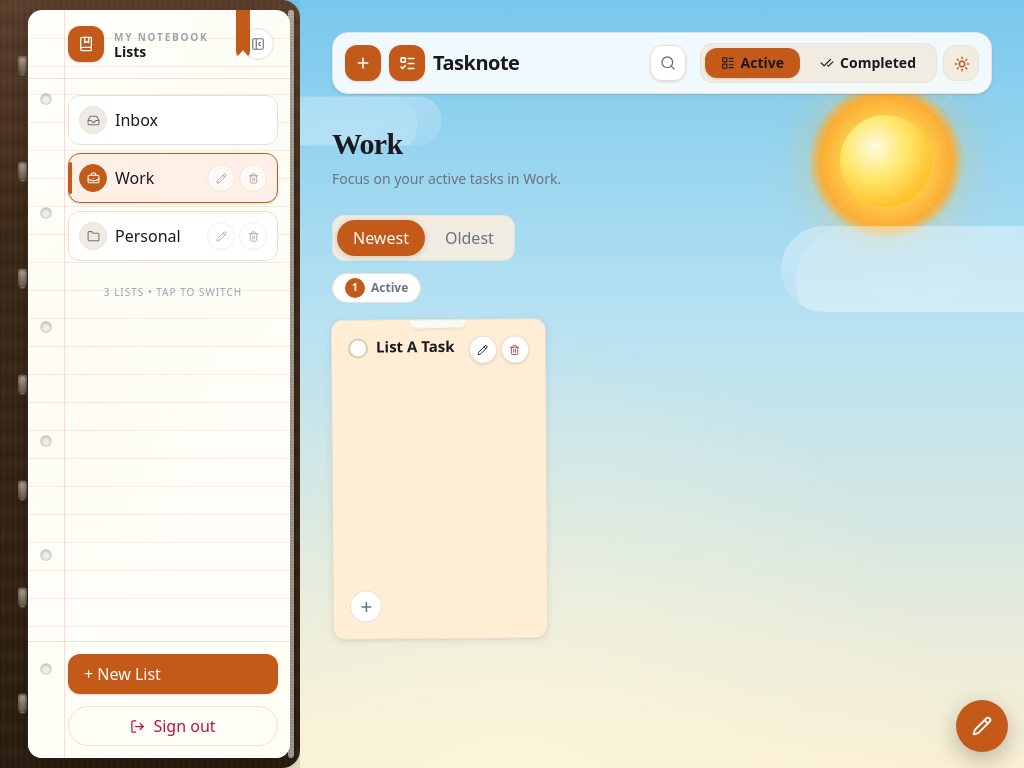
it: Instant navigation and query responsiveness › an older response never overwrites a newer query's results
Expected: the heading "List A Task" is shown, [376,336,461,357]
// Navigate to List B (slow)
Click the button "Personal".
click(157, 236)  # box [115,224,199,248]
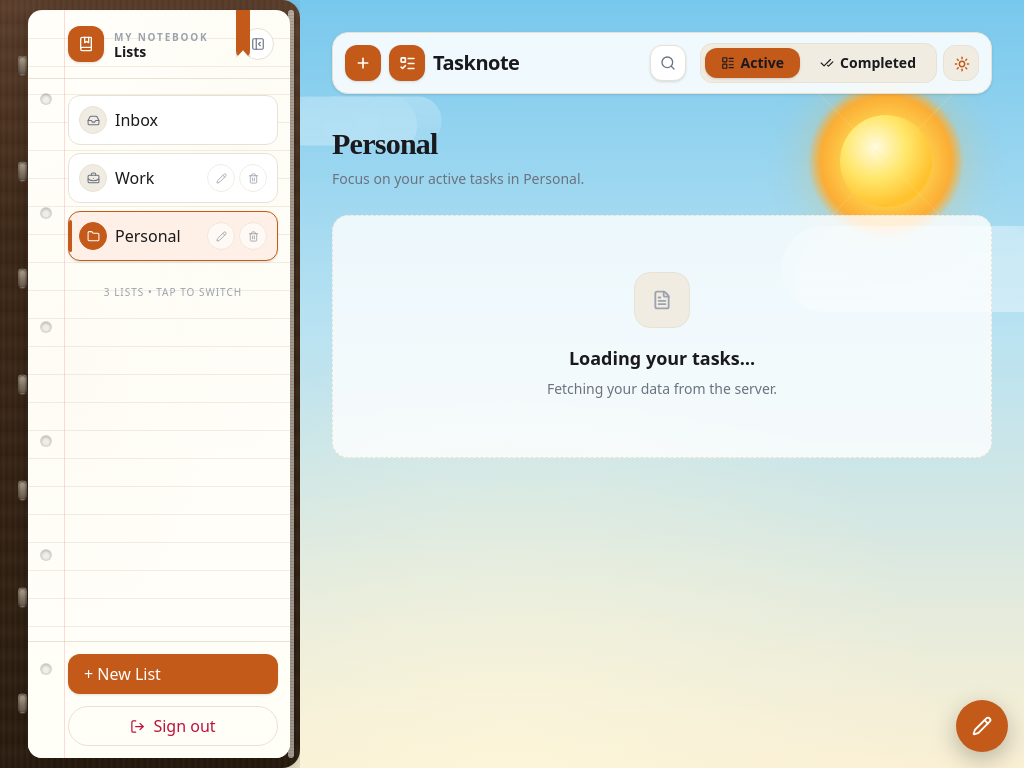
// Quickly navigate back to List A
Click the button "Work".
click(157, 178)  # box [115,166,199,190]
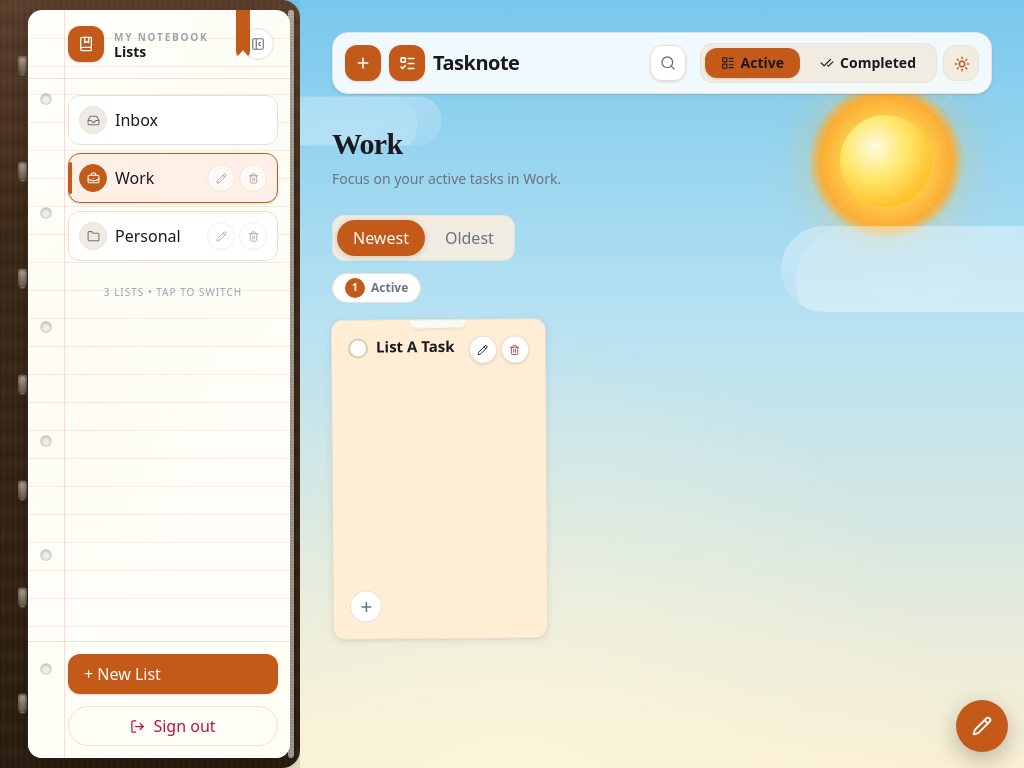
Expected: the heading "List A Task" is shown, [376,336,461,357]
